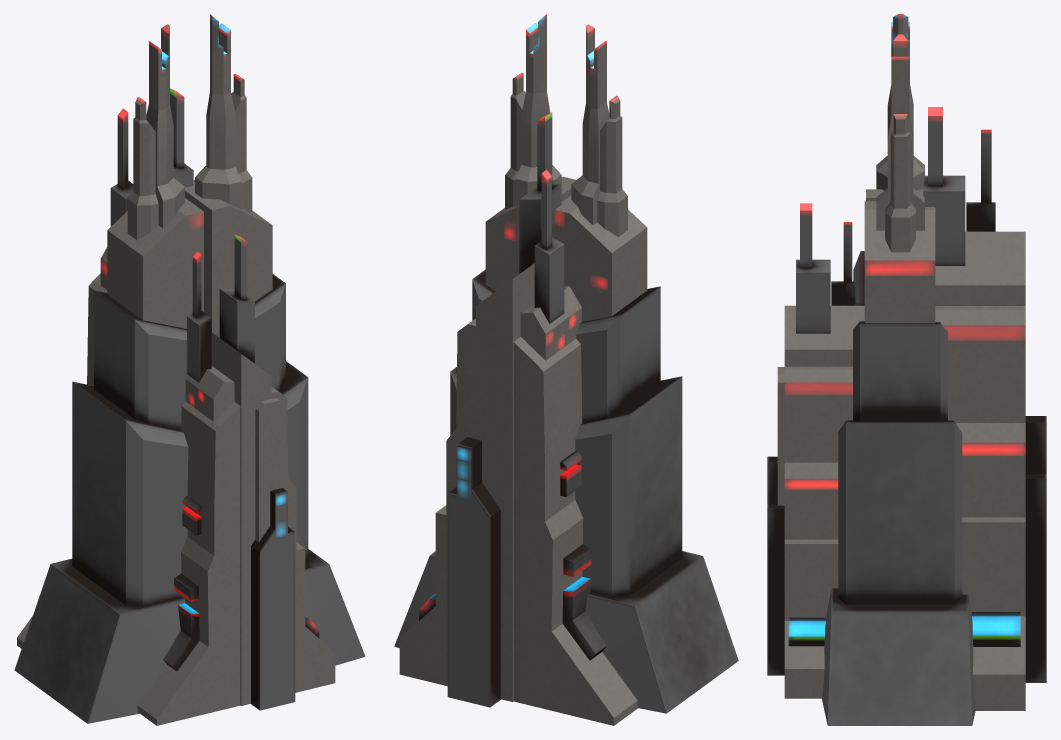
File: SM_BackgroundBuilding_023.fbx
3 renders of one model, left to right at view 1: azimuth 30°, elevation 25°; view 2: azimuth 150°, elevation 25°; view 3: azimuth 270°, elevation 25°, orthographic.
Parts seen in each view (by area): view 1: SM_BackgroundBuilding_023_LOD0; view 2: SM_BackgroundBuilding_023_LOD0; view 3: SM_BackgroundBuilding_023_LOD0.
Part boxes in pixels (bbox=[...]): SM_BackgroundBuilding_023_LOD0: bbox=[14, 14, 365, 725]; SM_BackgroundBuilding_023_LOD0: bbox=[394, 14, 738, 725]; SM_BackgroundBuilding_023_LOD0: bbox=[767, 14, 1046, 725].
Bounding box in the file's own units: 2177 × 1925 × 4837.
1 material, 1 textured.
